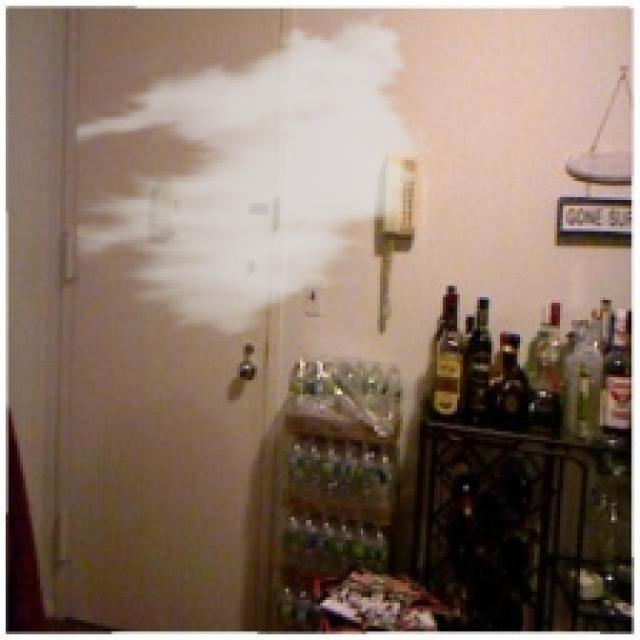Smoke: (74, 3, 434, 346)
